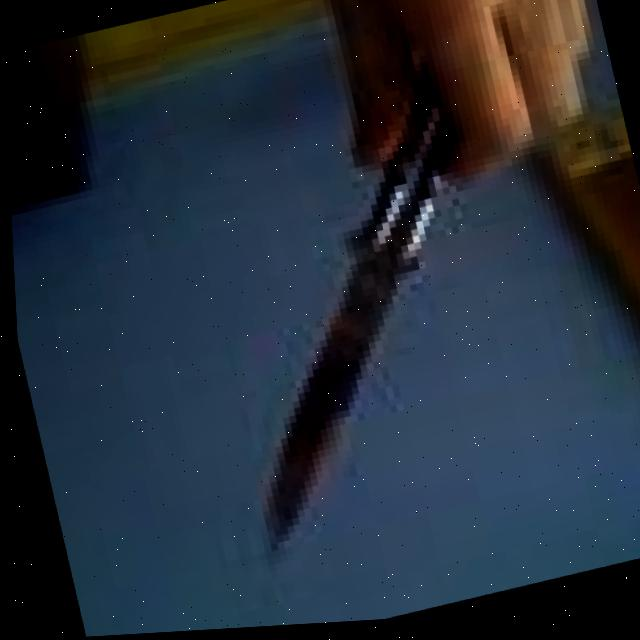knife: (163, 55, 538, 564)
